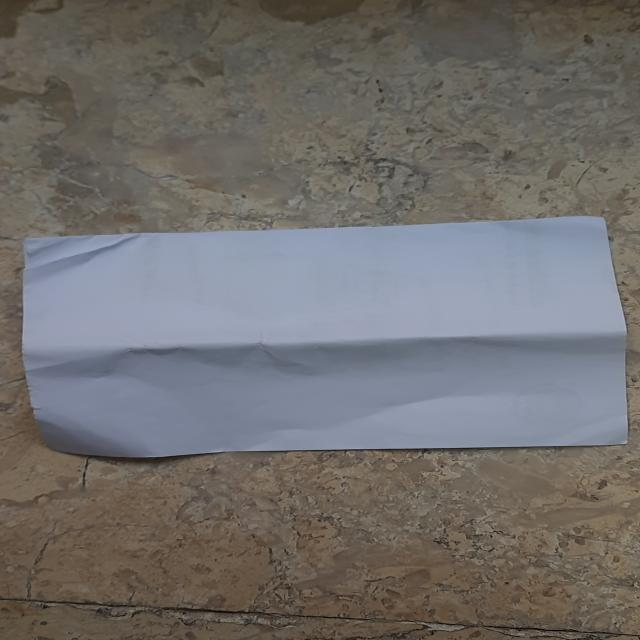paper: (13, 214, 640, 462)
